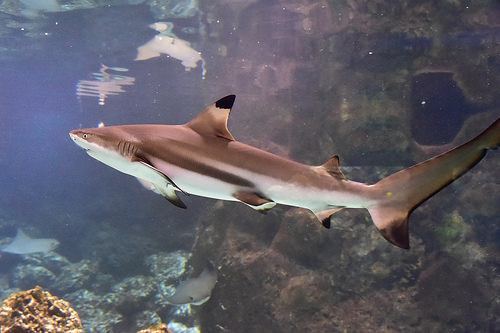shark: (51, 69, 489, 257)
